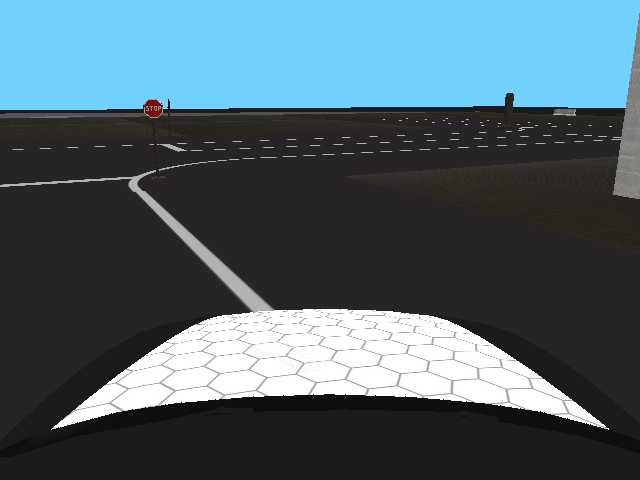stop: (143, 99, 163, 118)
